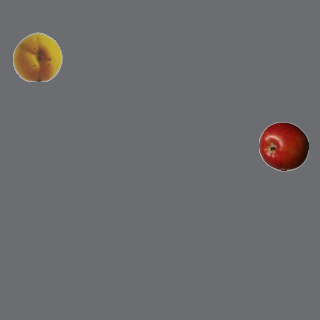Apple Braeburn: (258, 121, 308, 171)
Peach 2: (12, 31, 62, 81)
